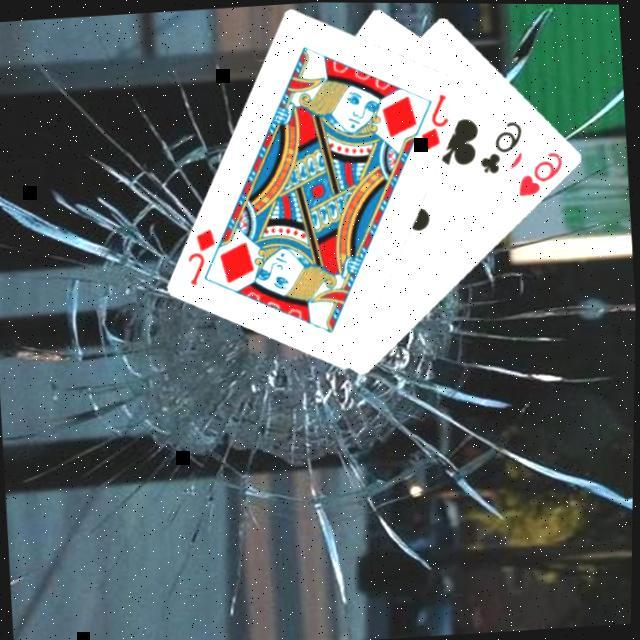6C: (475, 117, 530, 178)
6H: (514, 148, 570, 201)
JD: (415, 90, 456, 154), (184, 225, 224, 289)
